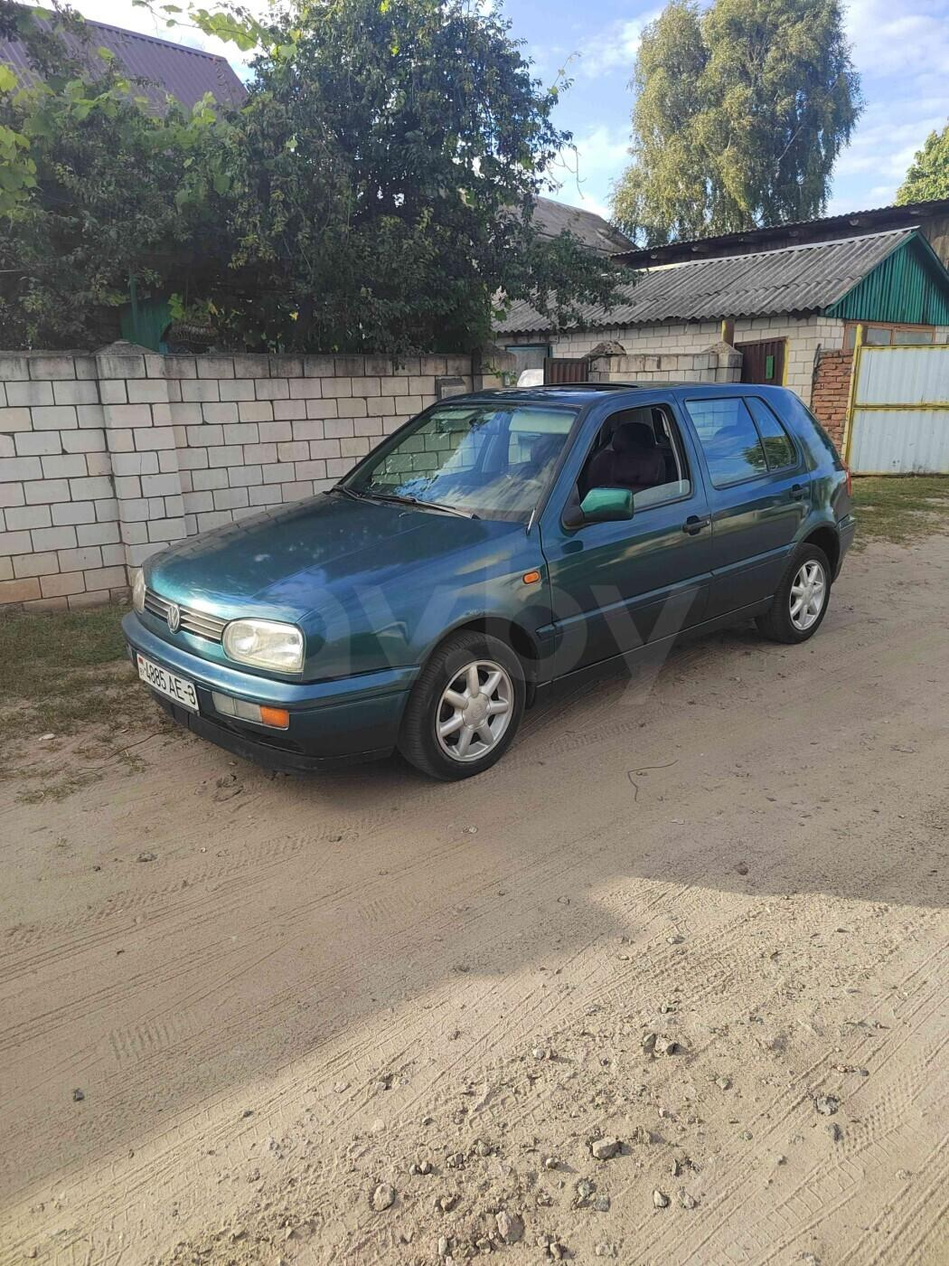Golf_1991-2000: (131, 376, 854, 787)
